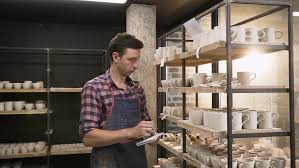white_male: (118, 39, 149, 80)
